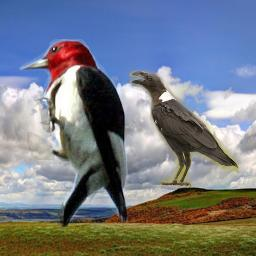Crow: (129, 70, 239, 187)
Woodpecker: (18, 39, 130, 227)
